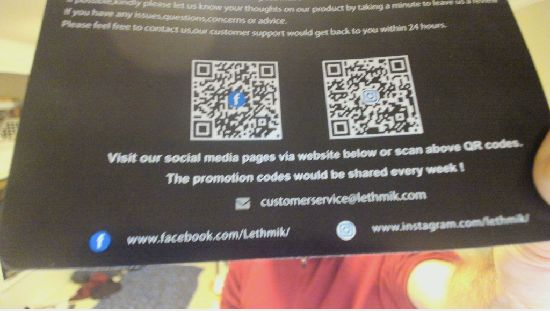QR_CODE: (181, 30, 288, 147), (312, 45, 433, 148)
